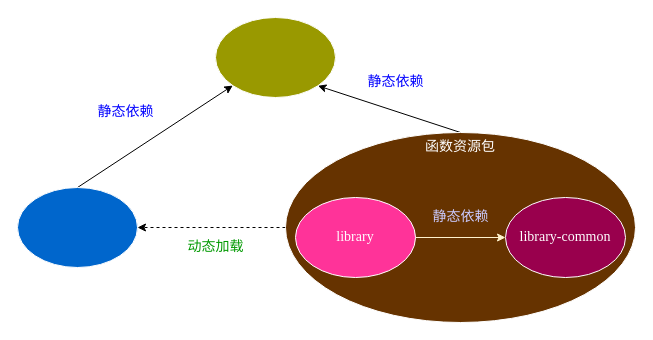
Image size: 653x340. Some labels were removed from this diagram. The centre of each missing label's shape, as x and y in pixels:
"common" goes at [275,57].
"service" goes at [77,227].
